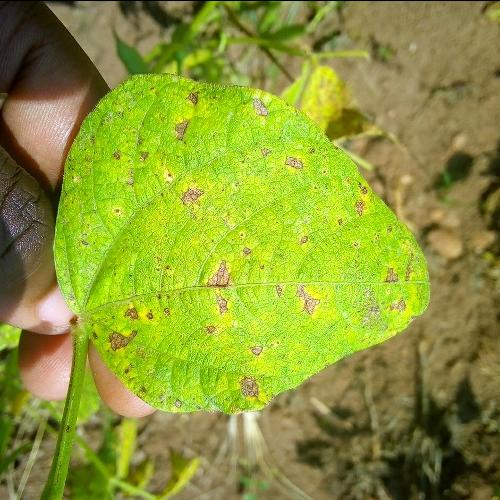hawar: (83, 79, 384, 398)
